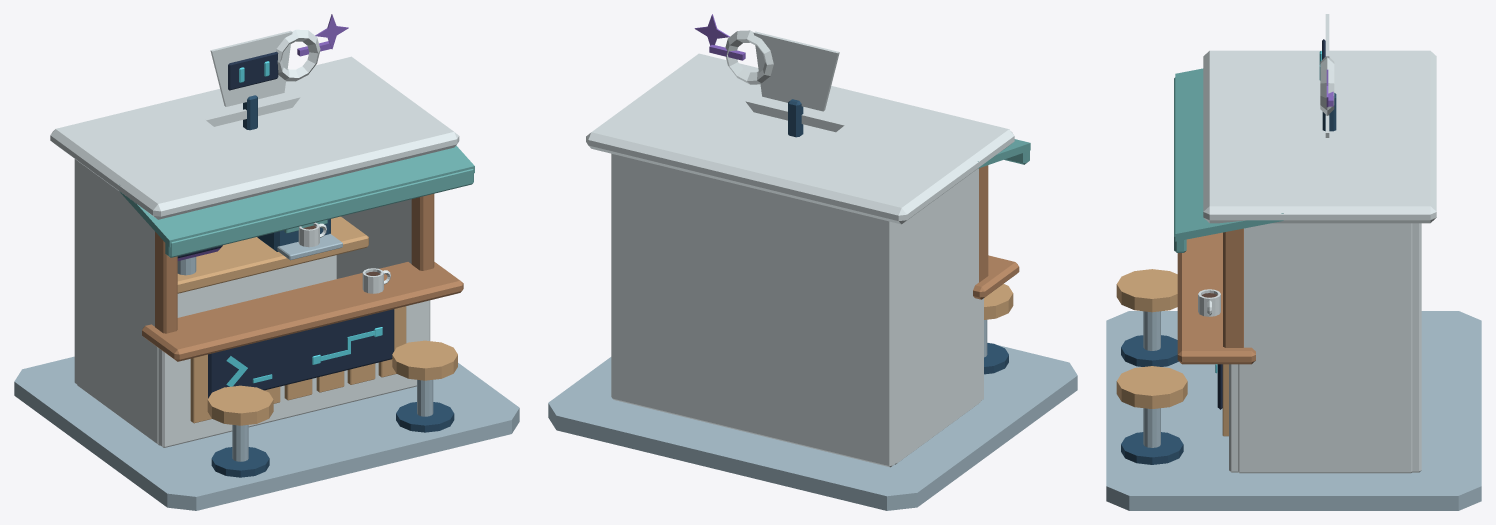
Rendered from campus_coffee_kiosk_v01.glb.
The picture shows the model from 3 angles, left to right: view 1: azimuth 30°, elevation 25°; view 2: azimuth 150°, elevation 25°; view 3: azimuth 270°, elevation 25°; orthographic projection. The views are drawn at different scales.
Visible parts, largest first — view 1: campus_coffee_kiosk; view 2: campus_coffee_kiosk; view 3: campus_coffee_kiosk.
Part boxes in pixels (x1=…): campus_coffee_kiosk: x1=14, y1=14, x2=519, y2=510; campus_coffee_kiosk: x1=548, y1=14, x2=1077, y2=510; campus_coffee_kiosk: x1=1106, y1=14, x2=1481, y2=510.
Bounding box in the file's own units: 4.2 × 4.14 × 3.6.
Materials: 1 (1 with a texture image).
